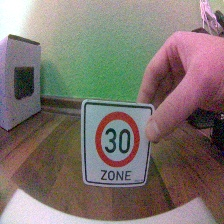dreisiger_zone: (80, 99, 154, 188)
